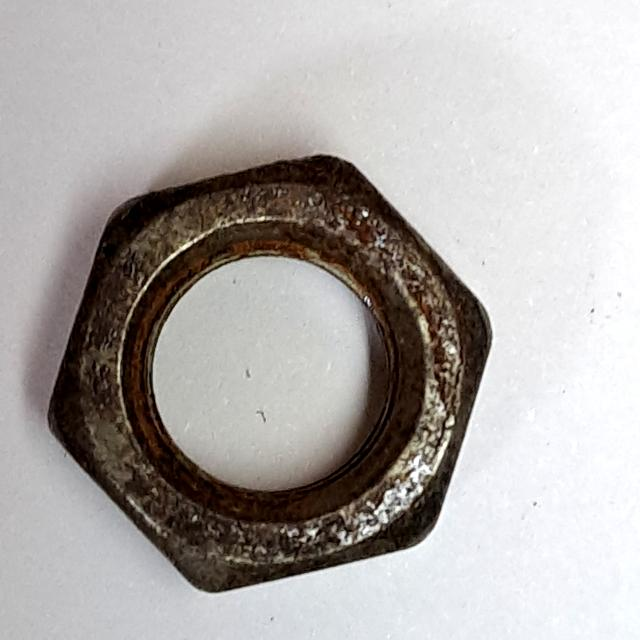Rust: (34, 145, 499, 604)
